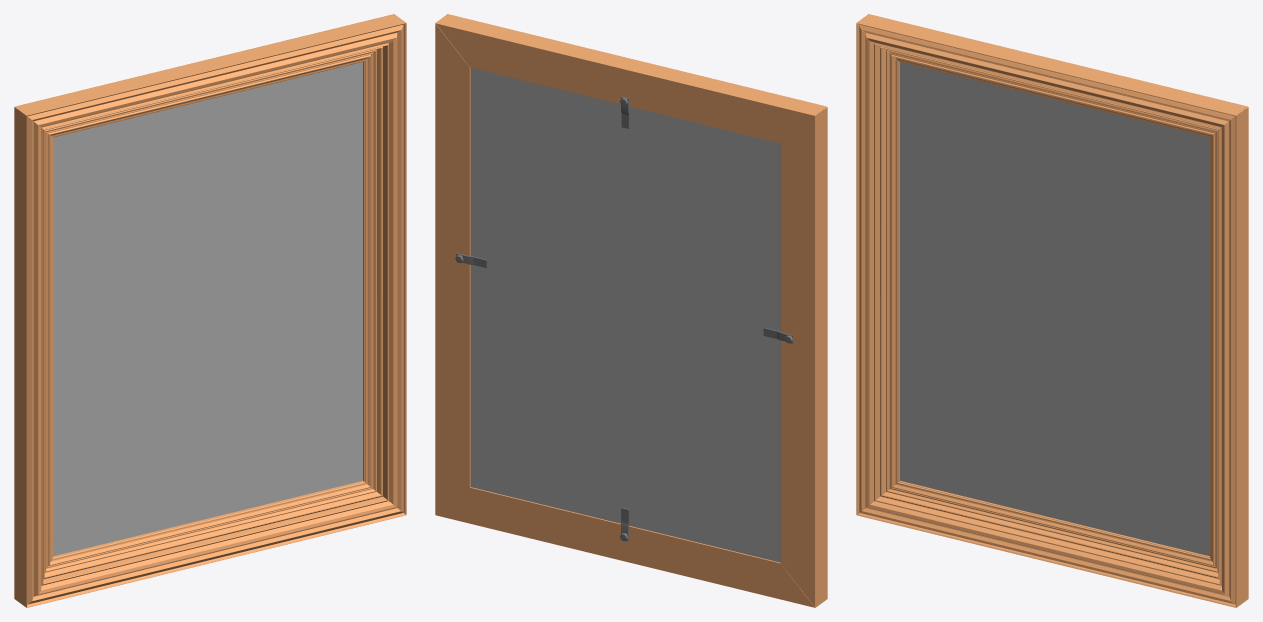
The model's file is golden_frame.fbx.
3 renders of one model, left to right at view 1: azimuth 30°, elevation 25°; view 2: azimuth 150°, elevation 25°; view 3: azimuth 330°, elevation 25°, orthographic.
Visible parts, largest first — view 1: canvas_mesh, frame_001_mesh, frame_004_mesh, frame_003_mesh, frame_002_mesh; view 2: canvas_mesh, frame_004_mesh, frame_002_mesh, frame_001_mesh, frame_003_mesh; view 3: canvas_mesh, frame_004_mesh, frame_001_mesh, frame_003_mesh, frame_002_mesh.
Part boxes in pixels (<box>): canvas_mesh: <box>53,62,362,556</box>; frame_001_mesh: <box>363,23,406,514</box>; frame_004_mesh: <box>14,107,52,607</box>; frame_003_mesh: <box>26,481,405,607</box>; frame_002_mesh: <box>15,14,405,137</box>; canvas_mesh: <box>470,68,789,562</box>; frame_004_mesh: <box>780,107,827,607</box>; frame_002_mesh: <box>435,14,826,143</box>; frame_001_mesh: <box>435,23,470,514</box>; frame_003_mesh: <box>436,487,814,607</box>; canvas_mesh: <box>900,62,1209,556</box>; frame_004_mesh: <box>856,23,899,514</box>; frame_001_mesh: <box>1210,107,1248,607</box>; frame_003_mesh: <box>857,481,1236,607</box>; frame_002_mesh: <box>857,14,1247,137</box>.
Size of the model in its own units: 70.55 by 87.32 by 4.93.
